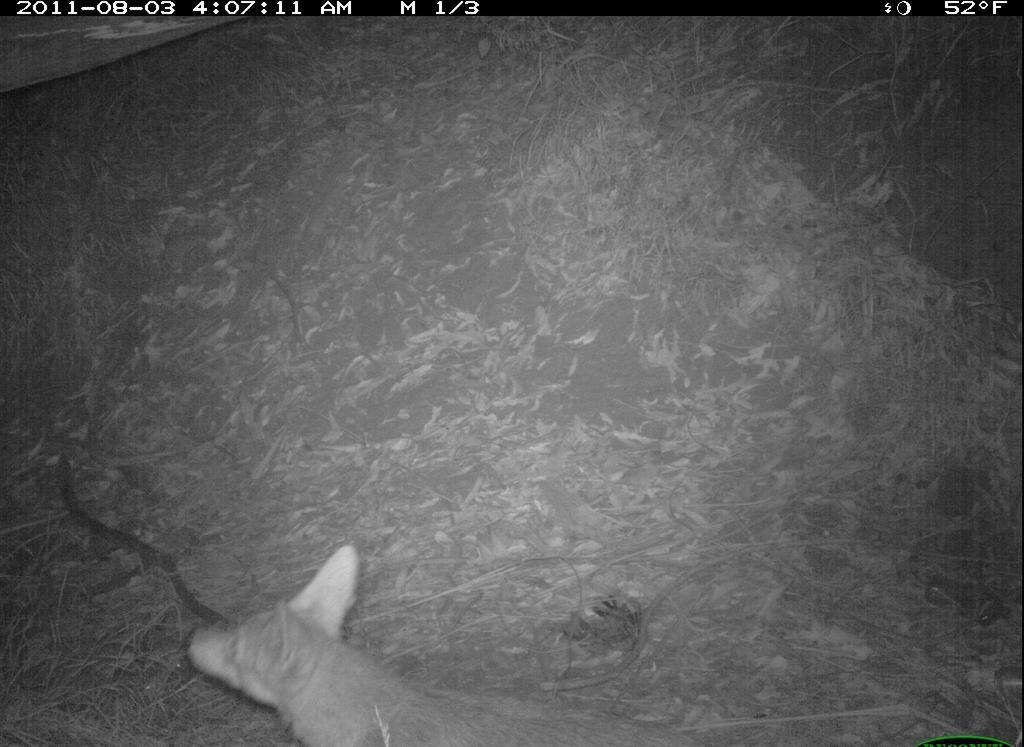coyote: (178, 547, 701, 745)
